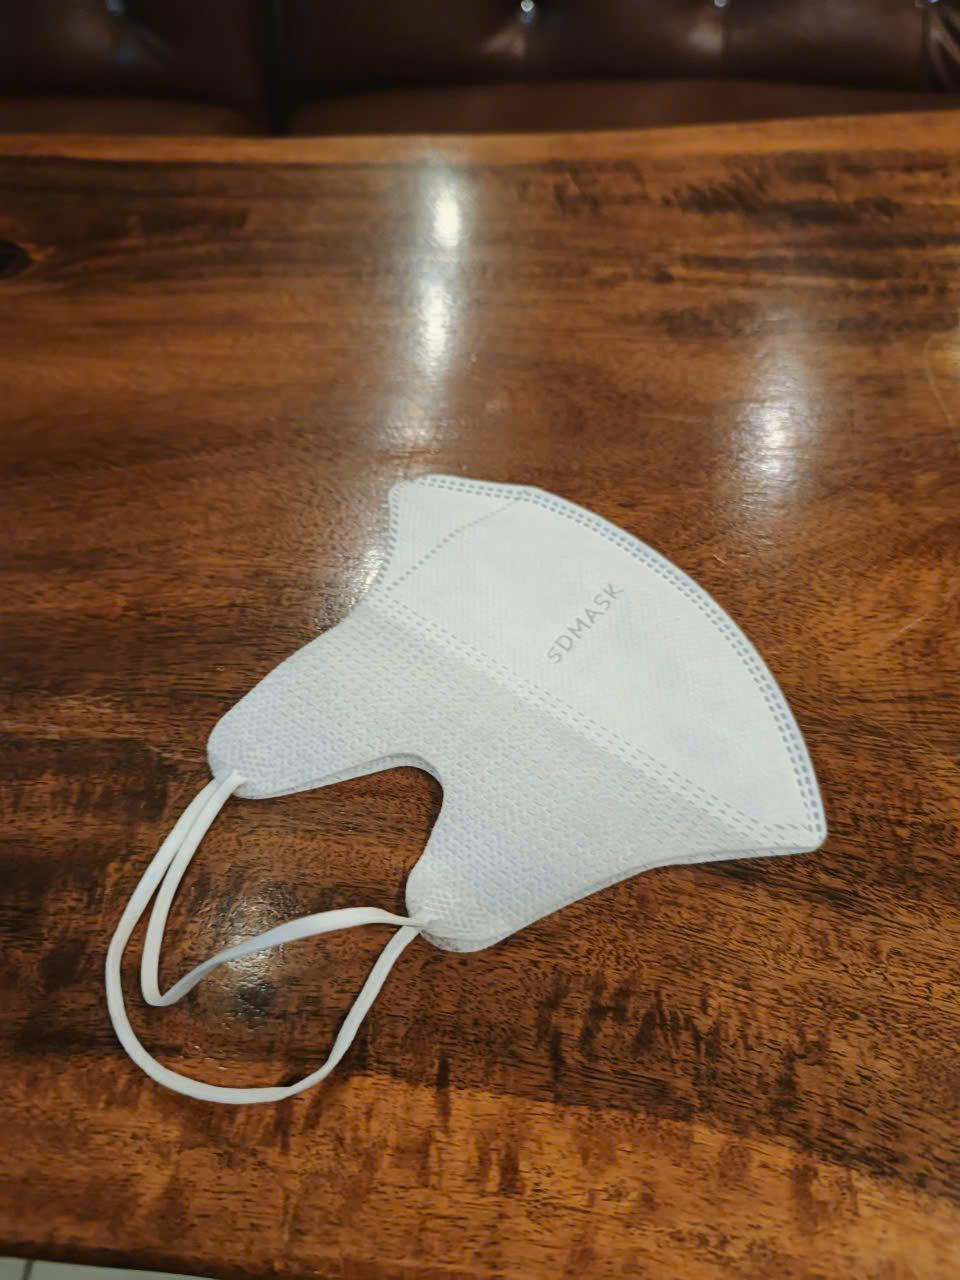Con lai: (105, 476, 826, 1105)
